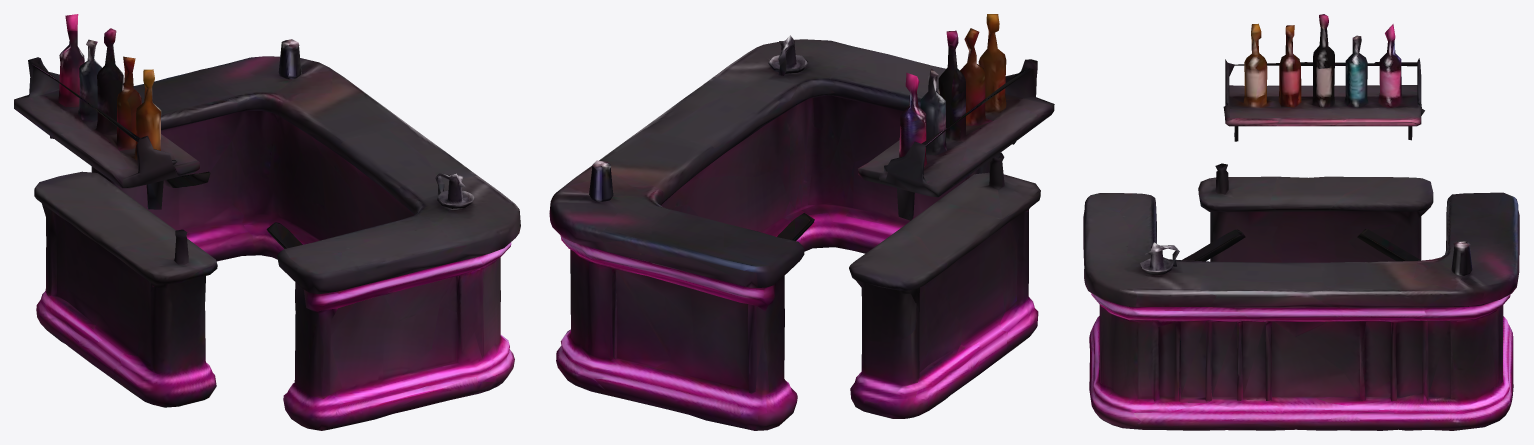
The model's file is bar.glb.
3 renders of one model, left to right at view 1: azimuth 30°, elevation 25°; view 2: azimuth 150°, elevation 25°; view 3: azimuth 270°, elevation 25°, orthographic. The views are drawn at different scales.
Visible parts, largest first — view 1: tripo_node_db8dac94-dc6f-4c98-bffd-8a3ccb5627aa; view 2: tripo_node_db8dac94-dc6f-4c98-bffd-8a3ccb5627aa; view 3: tripo_node_db8dac94-dc6f-4c98-bffd-8a3ccb5627aa.
Boxes of the visible parts, x1,y1,x2,y2 form: tripo_node_db8dac94-dc6f-4c98-bffd-8a3ccb5627aa: [14, 14, 520, 430]; tripo_node_db8dac94-dc6f-4c98-bffd-8a3ccb5627aa: [549, 14, 1054, 430]; tripo_node_db8dac94-dc6f-4c98-bffd-8a3ccb5627aa: [1083, 14, 1519, 430].
Size of the model in its own units: 0.8066 by 0.7331 by 1.
Materials: 1 (1 with a texture image).
